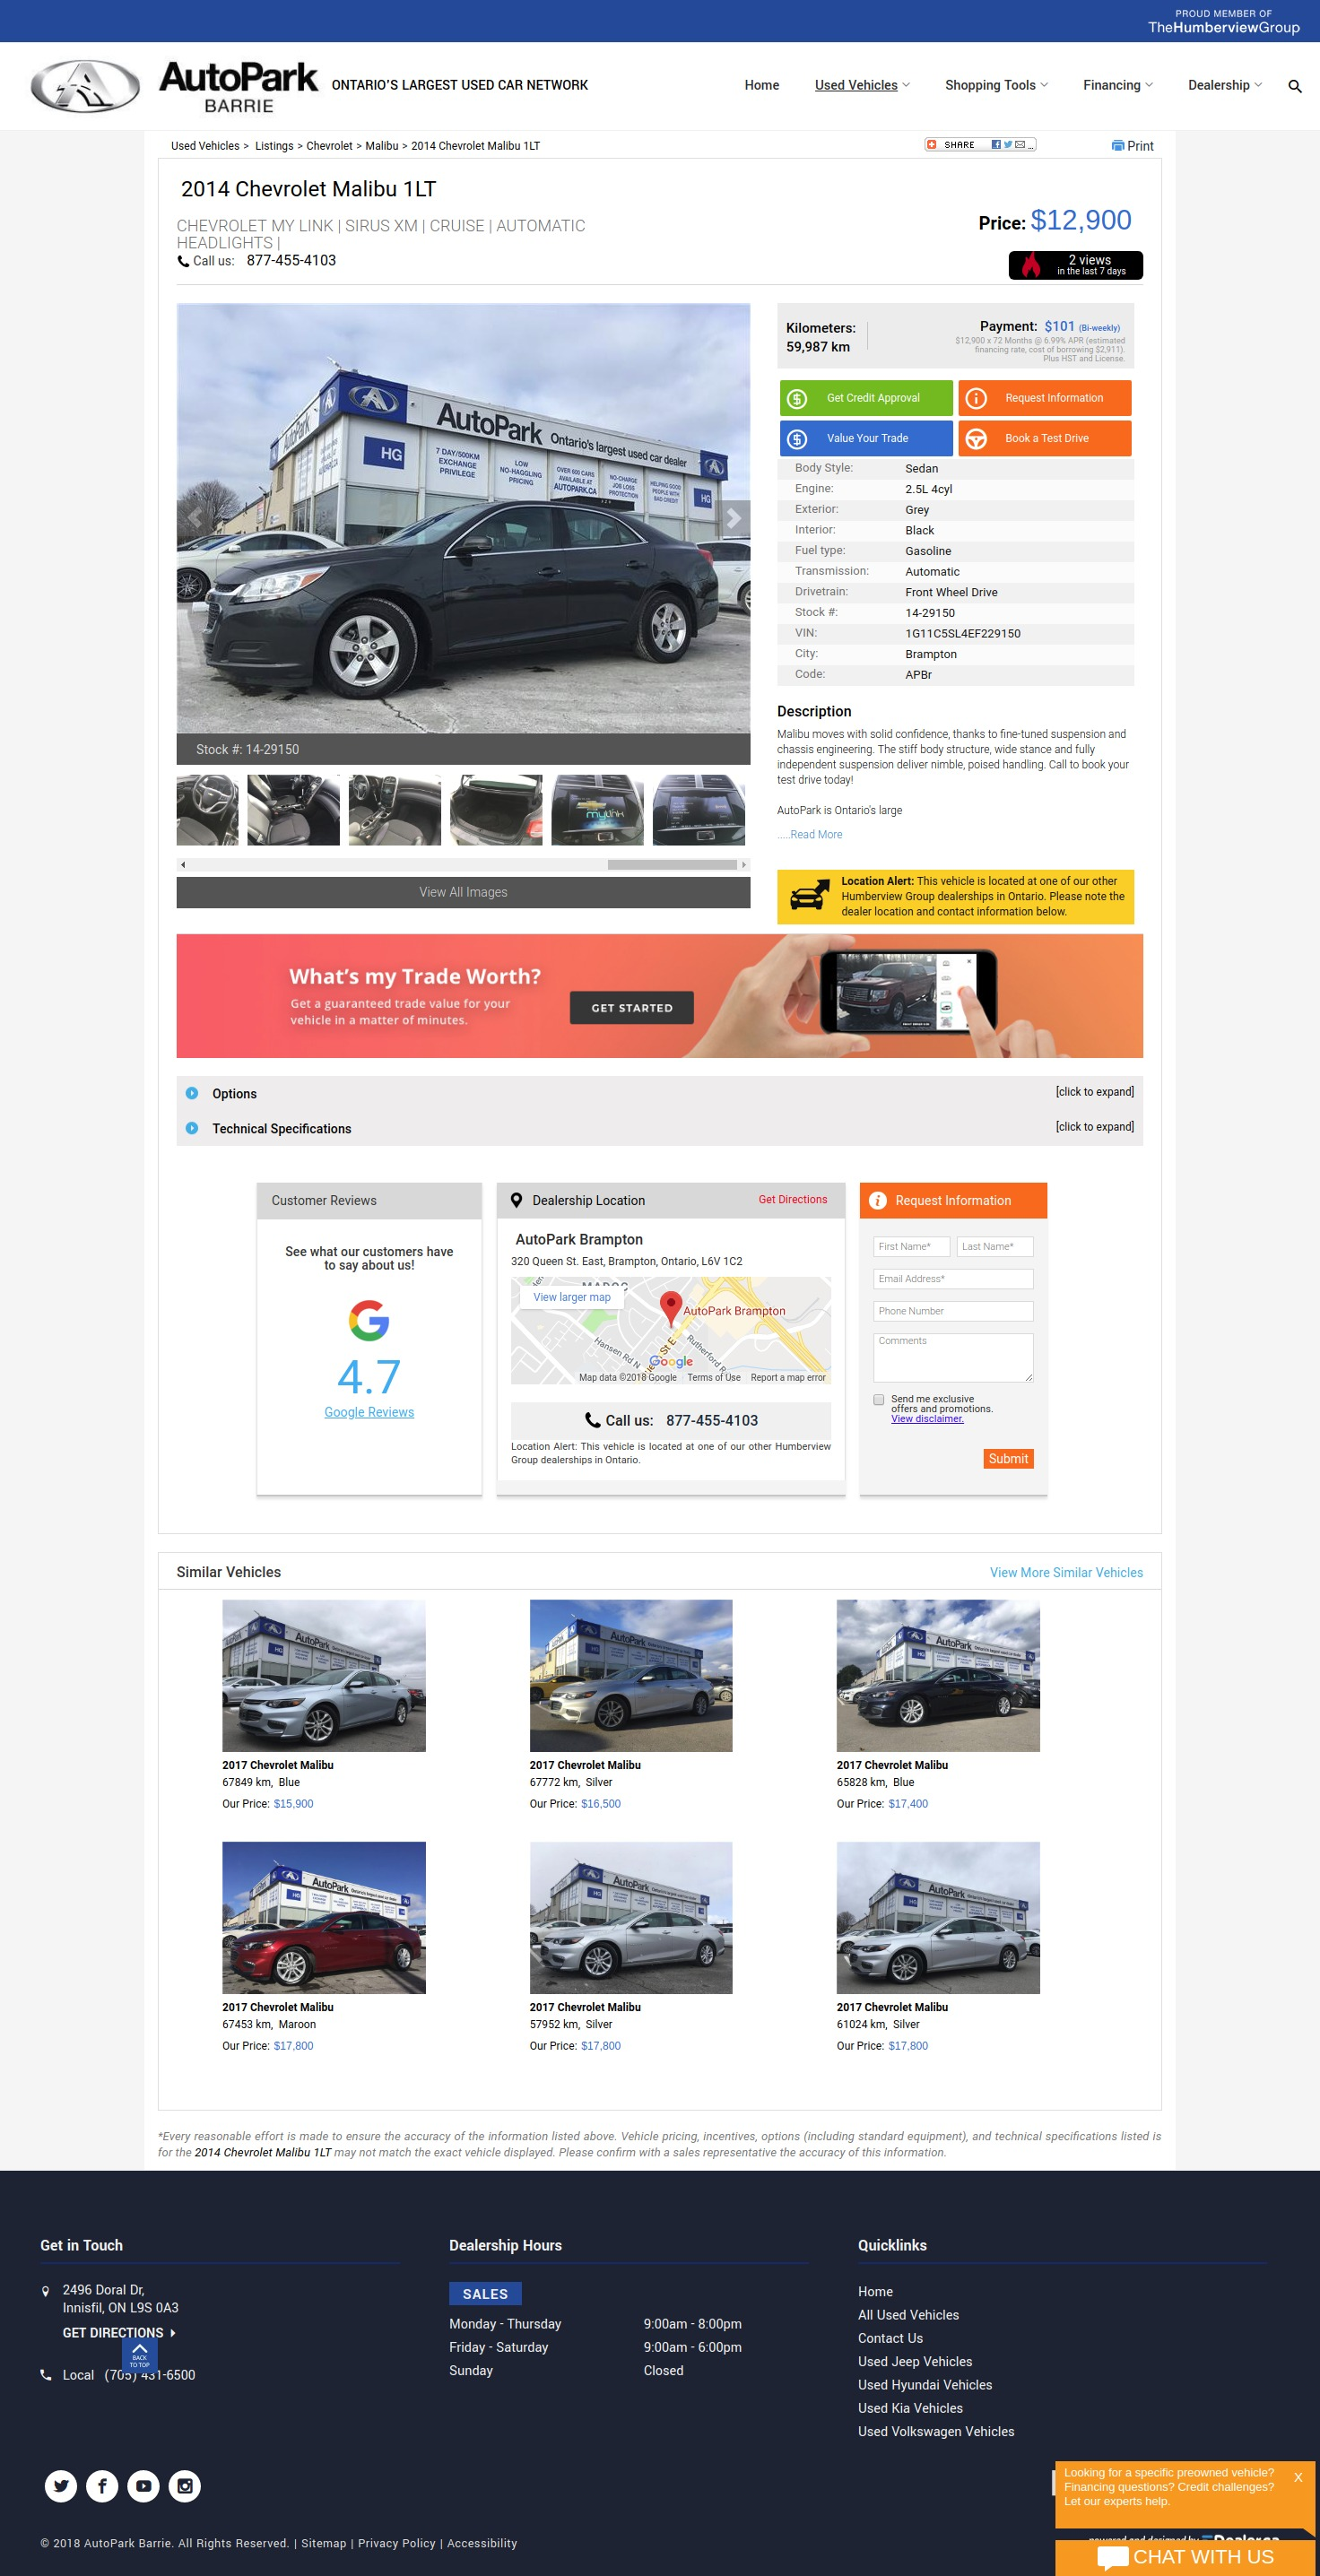car: (712, 500, 754, 538)
